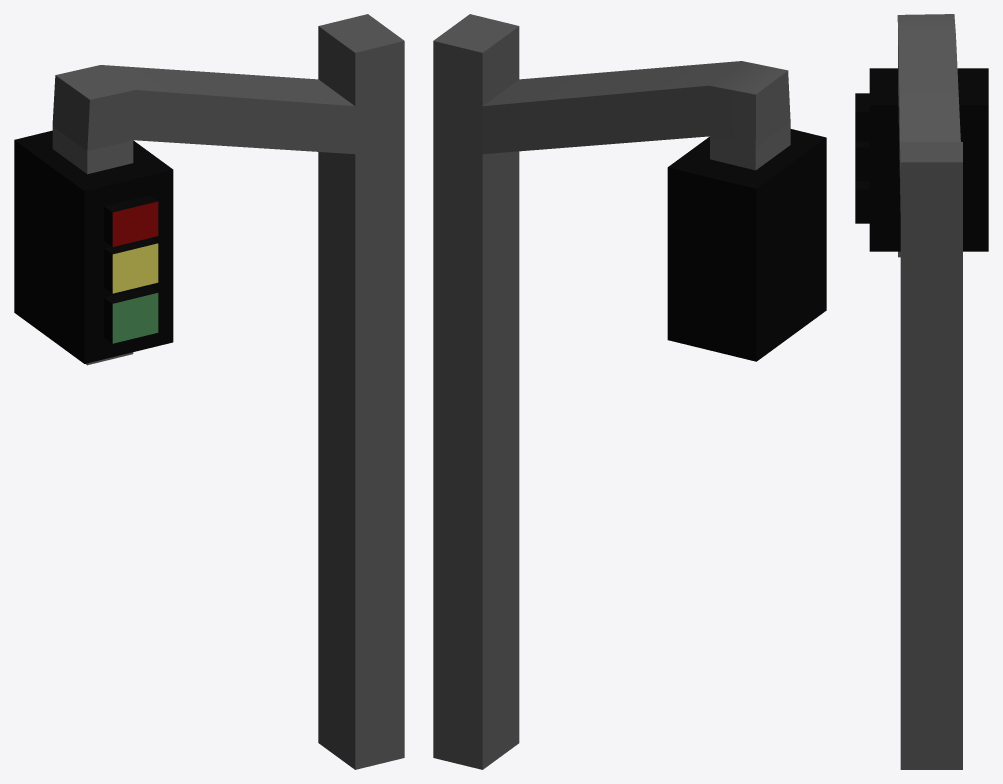
The model's file is Traffic_Light_1.fbx.
The picture shows the model from 3 angles, left to right: view 1: azimuth 30°, elevation 25°; view 2: azimuth 150°, elevation 25°; view 3: azimuth 270°, elevation 25°; orthographic projection. The views are drawn at different scales.
Visible parts, largest first — view 1: pCube9; view 2: pCube9; view 3: pCube9.
Boxes of the visible parts, left/top/right/bottom form: pCube9: left=14, top=14, right=404, bottom=769; pCube9: left=433, top=14, right=826, bottom=769; pCube9: left=855, top=14, right=988, bottom=769.
Bounding box in the file's own units: 1.91 × 3.99 × 0.772.
